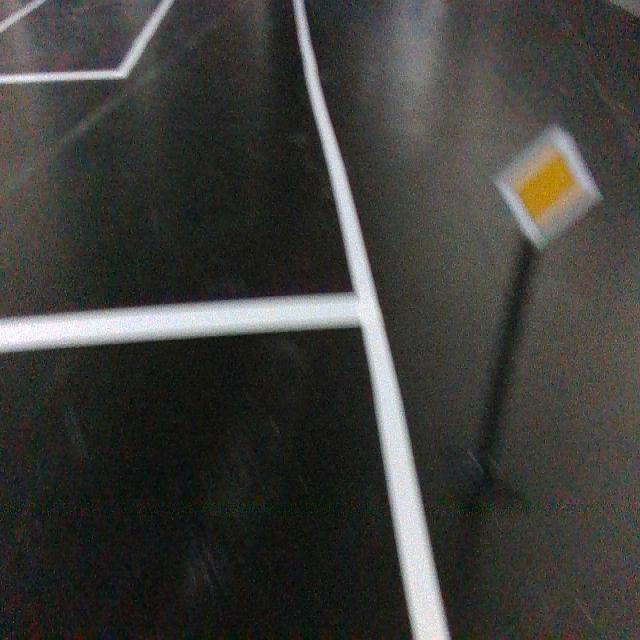priority-sign: (490, 120, 604, 254)
